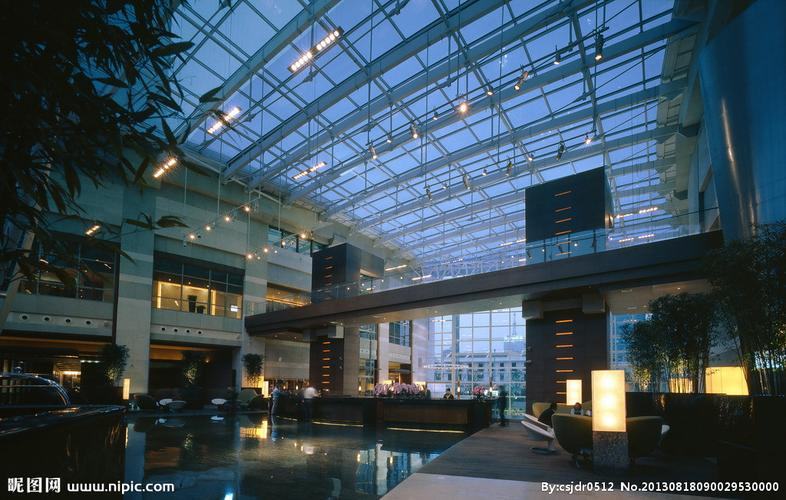buildings: (57, 39, 745, 398)
